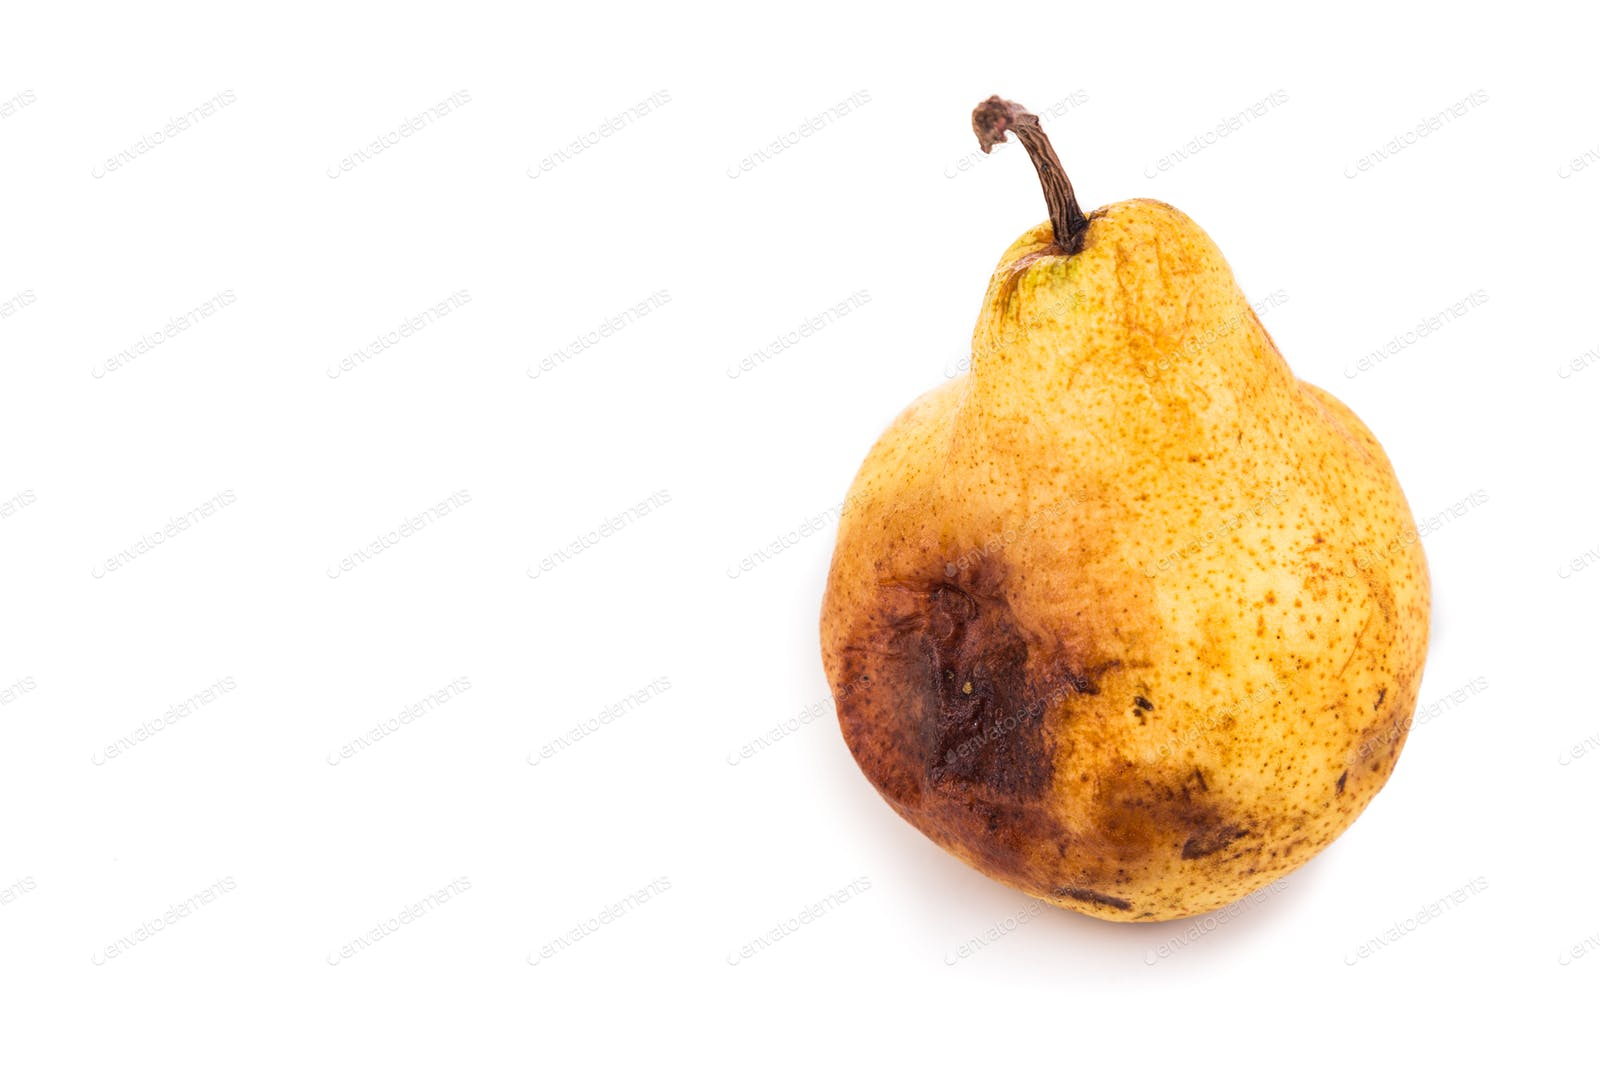pear: (812, 200, 1432, 925)
rotten: (831, 539, 1132, 893)
